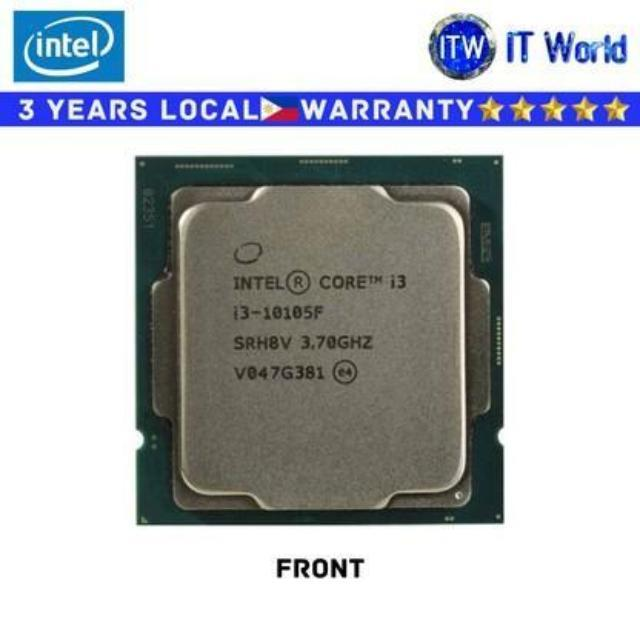CPU: (134, 152, 508, 526)
